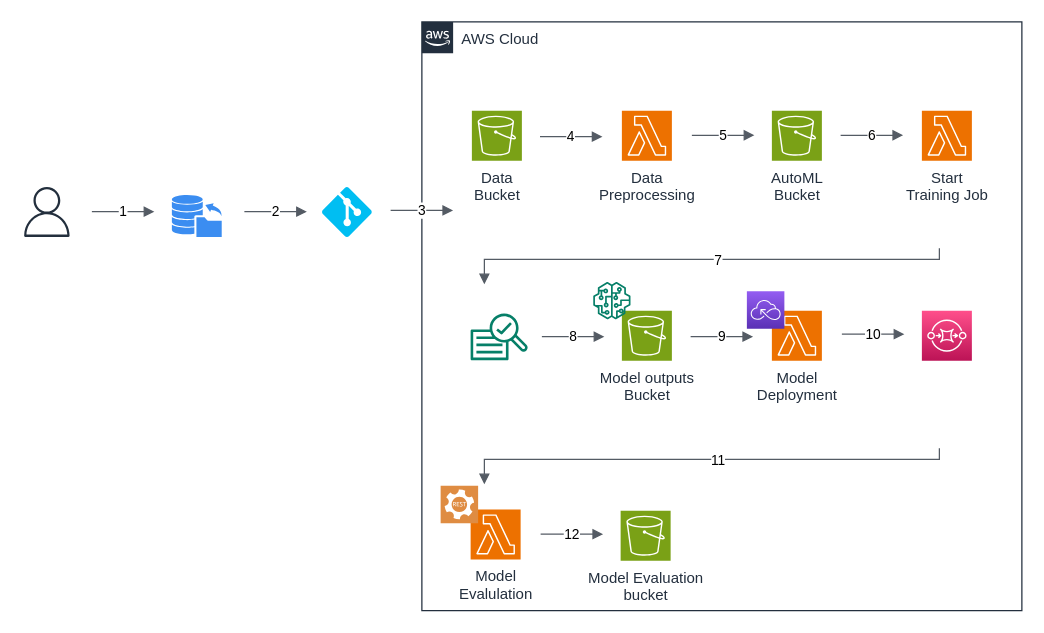
Image size: 1044x633. Some labels were removed from this diagram. Each missing label, with the centre of its shape:
"GitHub Repository" belongs at (346,211).
"Model Eval Queue" belongs at (946,335).
"New Data" belongs at (196,215).
"Training" belongs at (498,336).
"User" belongs at (46,211).
